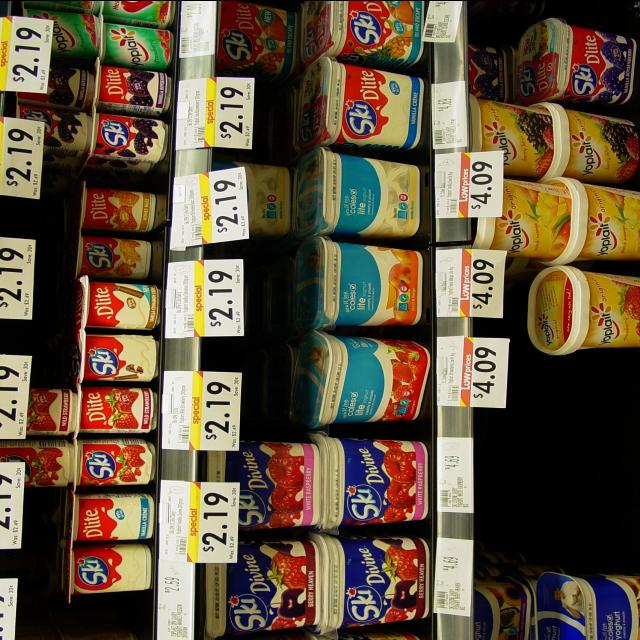empty_space: (504, 365, 636, 553), (43, 598, 141, 628)
